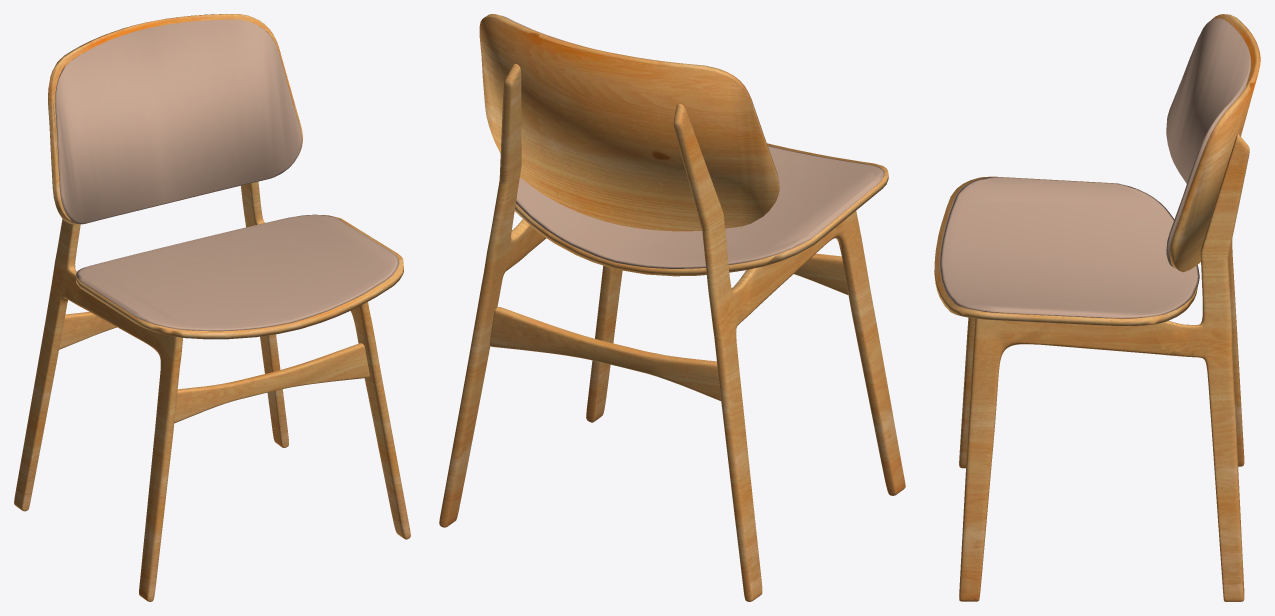
Rendered from chair-model-webp.glb.
3 views of the same model, side by side, from view 1: azimuth 30°, elevation 25°; view 2: azimuth 150°, elevation 25°; view 3: azimuth 270°, elevation 25° (orthographic). The views are drawn at different scales.
Visible parts, largest first — view 1: Wood_8.005, Plane.005, Wood_8.001; view 2: Wood_8.001, Plane.005, Wood_8.005; view 3: Wood_8.005, Plane.005, Wood_8.001.
Part boxes in pixels (left/top/right/bottom): Wood_8.005: left=55, top=19, right=399, bottom=331; Plane.005: left=14, top=181, right=410, bottom=601; Wood_8.001: left=48, top=14, right=403, bottom=339; Wood_8.001: left=479, top=14, right=888, bottom=276; Plane.005: left=439, top=64, right=905, bottom=601; Wood_8.005: left=501, top=15, right=884, bottom=268; Wood_8.005: left=939, top=18, right=1251, bottom=318; Plane.005: left=959, top=134, right=1249, bottom=601; Wood_8.001: left=934, top=14, right=1260, bottom=325.
Bounding box in the file's own units: 49.67 × 78.73 × 48.88.
Materials: 3 (3 with a texture image).
